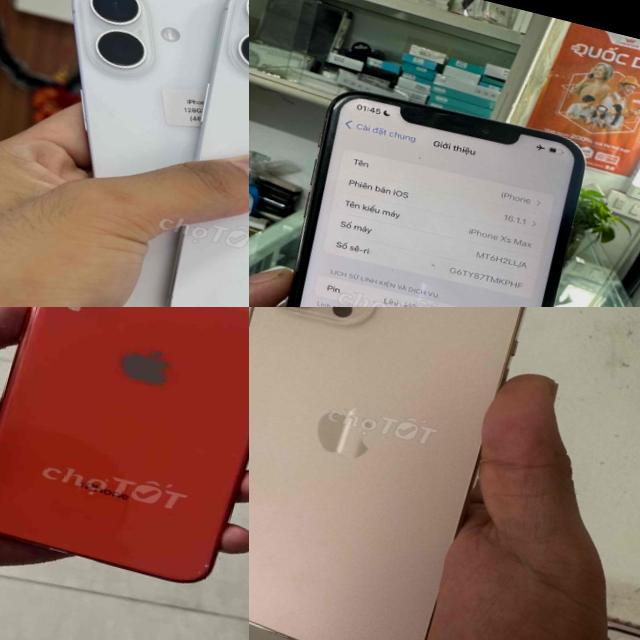gen_12_13: (249, 307, 547, 640)
gen_17: (142, 0, 249, 307)
gen_x_xs: (249, 76, 598, 307), (0, 307, 249, 598)
